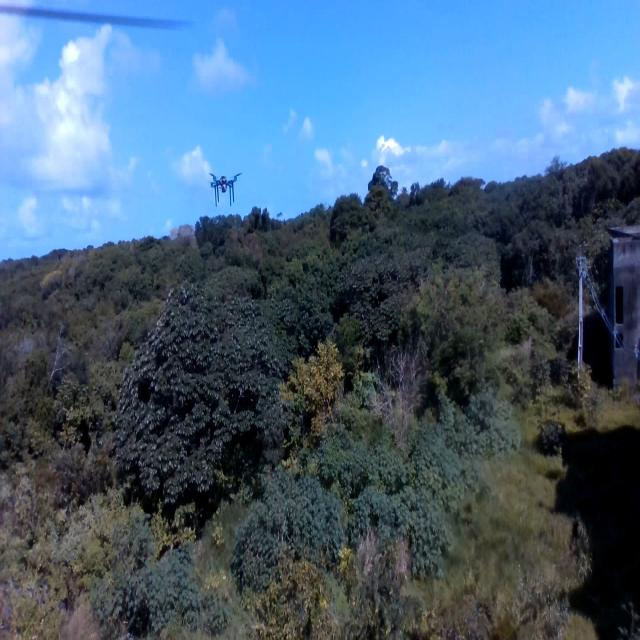-uav-: (207, 163, 241, 221)
